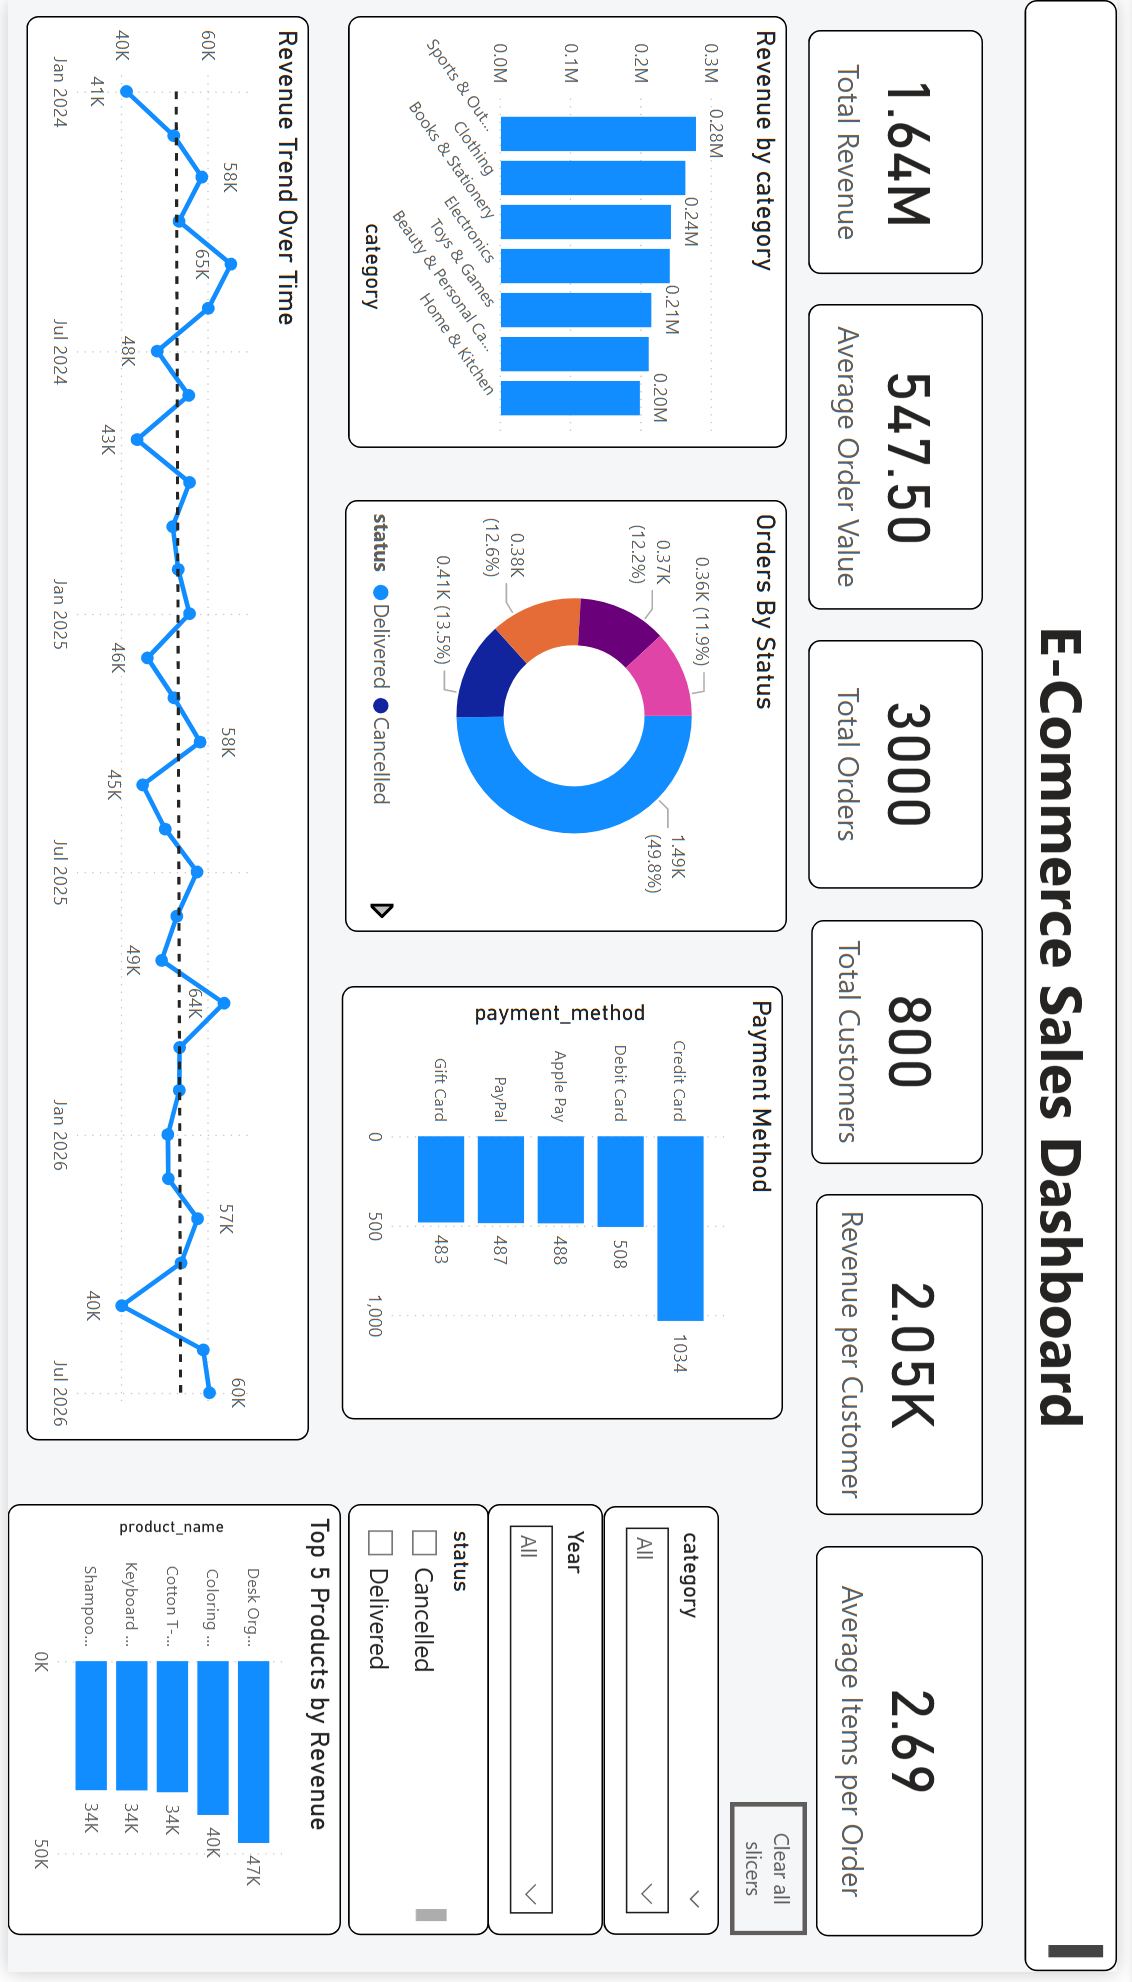

The dashboard page shown, as its layout file describes it:
{"tool":"powerbi","page":{"name":"Page 1","canvas":[1280,720],"ordinal":0},"visuals":[{"type":"card","fields":{"Values":["customers.Total Revenue"]},"box":[20,86.7,158.3,113.3],"z":0},{"type":"card","fields":{"Values":["customers.Total Orders"]},"box":[416,86.7,161.7,113.3],"z":1000},{"type":"card","fields":{"Values":["customers.Total Customers"]},"box":[597.3,86.7,158.3,111.7],"z":2000},{"type":"card","fields":{"Values":["customers.Average Order Value"]},"box":[198,86.7,198.3,113.3],"z":3000},{"type":"clusteredColumnChart","title":"Revenue by category","fields":{"Category":["products.category"],"Y":["customers.Product Revenue"]},"box":[9.8,214.8,280.3,285.2],"z":4000},{"type":"lineChart","title":"Revenue Trend Over Time","fields":{"Category":["orders.order_date.Variation.Date Hierarchy.Year","orders.order_date.Variation.Date Hierarchy.Quarter","orders.order_date.Variation.Date Hierarchy.Month","orders.order_date.Variation.Date Hierarchy.Day"],"Y":["customers.Total Revenue"]},"box":[10,525,925,183.3],"z":5000},{"type":"donutChart","title":"Orders By Status","fields":{"Category":["orders.status"],"Y":["CountNonNull(orders.order_id)"]},"box":[324.6,214.8,280.3,286.9],"z":6000},{"type":"barChart","title":"Payment Method","fields":{"Category":["orders.payment_method"],"Y":["CountNonNull(orders.order_id)"]},"box":[640,216.7,281.7,286.7],"z":7000},{"type":"slicer","fields":{"Values":["orders.status"]},"box":[976.7,408.3,280,91.7],"z":8000},{"type":"slicer","fields":{"Values":["orders.order_date.Variation.Date Hierarchy.Year"]},"box":[976.7,333.3,280,75],"z":9000},{"type":"slicer","fields":{"Values":["products.category"]},"box":[978.3,258.3,278.3,75],"z":10000},{"type":"textbox","box":[0,0,1280,60],"z":11000},{"type":"clusteredBarChart","title":"Top 5 Products by Revenue","fields":{"Category":["products.product_name"],"Y":["customers.Product Revenue"]},"box":[976.7,503.3,280,216.7],"z":12000},{"type":"card","fields":{"Values":["customers.Revenue per Customer"]},"box":[775.3,86.7,208.3,108.3],"z":13000},{"type":"card","fields":{"Values":["customers.Average Items per Order"]},"box":[1003.3,86.7,253.3,108.3],"z":14000},{"type":"actionButton","box":[1170,201.7,86.7,50],"z":14001}]}

Visuals, with their boxes on the page's 1280x720 design canvas (x1, y1, x2, y2). These are canvas units, not pixel positions in the 1132x1982 screenshot, which may show the page scaled, cropped or inside an application window:
card - customers.Total Revenue: l=20, t=87, r=178, b=200
card - customers.Total Orders: l=416, t=87, r=578, b=200
card - customers.Total Customers: l=597, t=87, r=756, b=198
card - customers.Average Order Value: l=198, t=87, r=396, b=200
"Revenue by category" clusteredColumnChart: l=10, t=215, r=290, b=500
"Revenue Trend Over Time" lineChart: l=10, t=525, r=935, b=708
"Orders By Status" donutChart: l=325, t=215, r=605, b=502
"Payment Method" barChart: l=640, t=217, r=922, b=503
slicer - orders.status: l=977, t=408, r=1257, b=500
slicer - orders.order_date.Variation.Date Hierarchy.Year: l=977, t=333, r=1257, b=408
slicer - products.category: l=978, t=258, r=1257, b=333
textbox: l=0, t=0, r=1280, b=60
"Top 5 Products by Revenue" clusteredBarChart: l=977, t=503, r=1257, b=720
card - customers.Revenue per Customer: l=775, t=87, r=984, b=195
card - customers.Average Items per Order: l=1003, t=87, r=1257, b=195
actionButton: l=1170, t=202, r=1257, b=252
